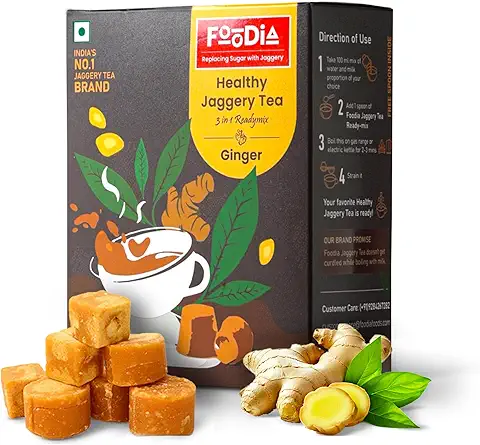Tea: (65, 9, 407, 408)
